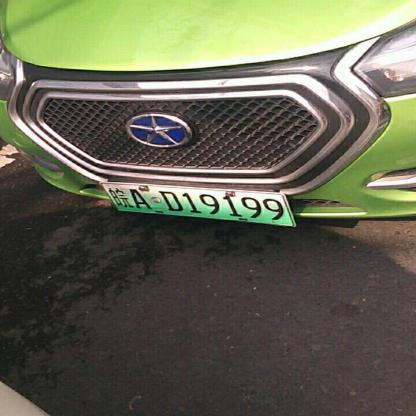lp: (100, 183, 294, 224)
